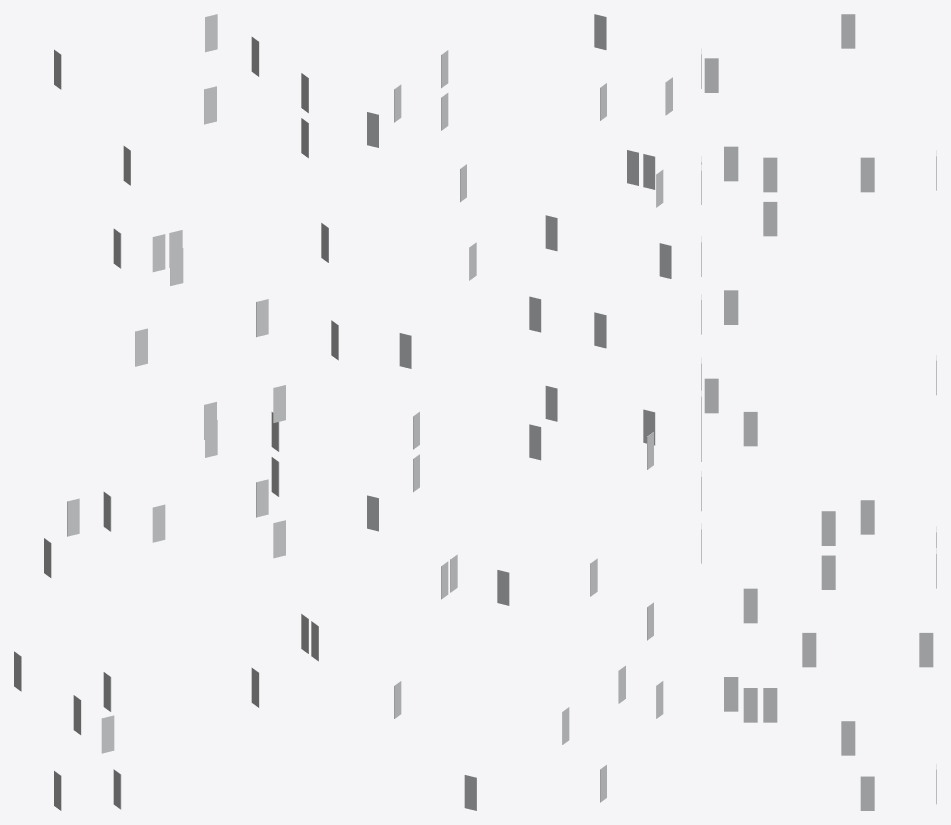
The model's file is env_city_glass_lit.fbx.
3 renders of one model, left to right at view 1: azimuth 30°, elevation 25°; view 2: azimuth 150°, elevation 25°; view 3: azimuth 270°, elevation 25°, orthographic. The views are drawn at different scales.
Parts seen in each view (by area): view 1: env_city_glass_lit; view 2: env_city_glass_lit; view 3: env_city_glass_lit.
Boxes of the visible parts, bbox=[...] form: env_city_glass_lit: bbox=[14, 14, 338, 810]; env_city_glass_lit: bbox=[367, 14, 672, 810]; env_city_glass_lit: bbox=[701, 14, 936, 810].
Bounding box in the file's own units: 4834 × 16780 × 4834.
